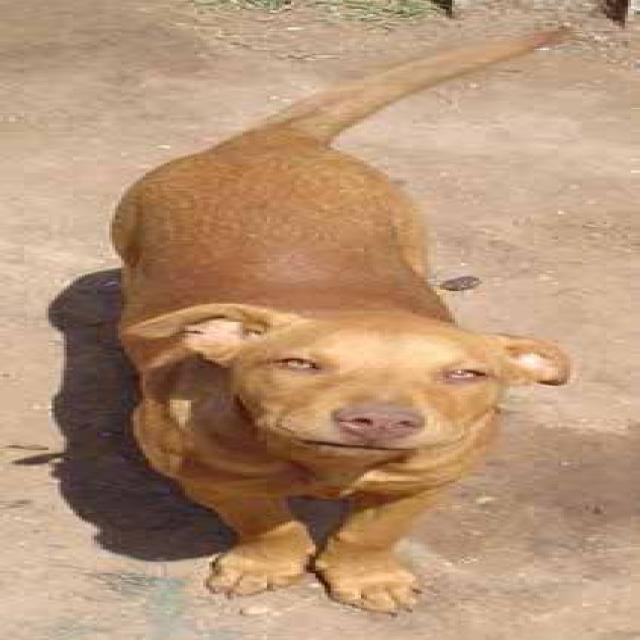dog: (106, 24, 573, 616)
